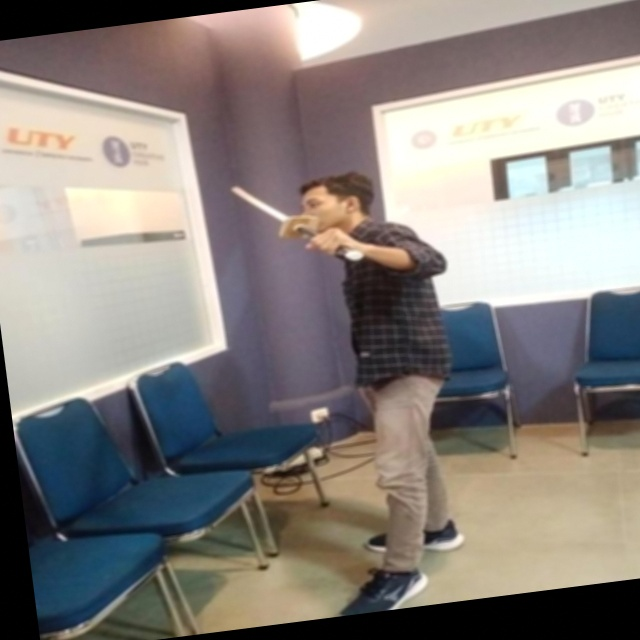Sharp-Object: (218, 169, 368, 292)
